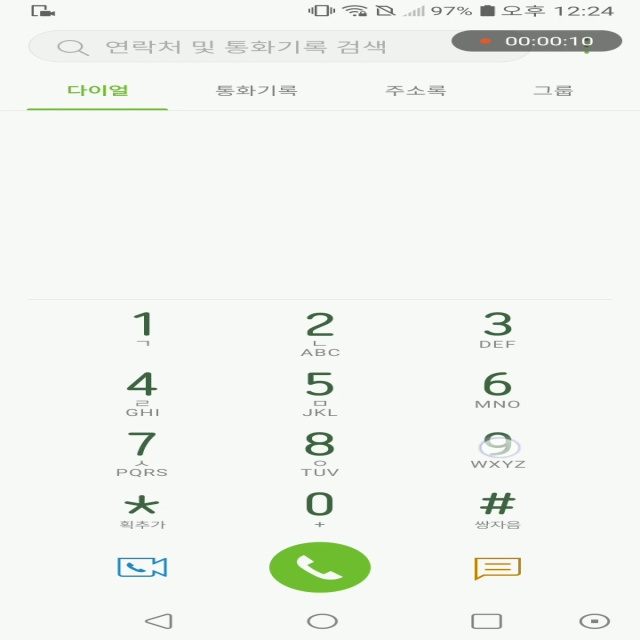Cursor: (478, 438, 522, 460)
